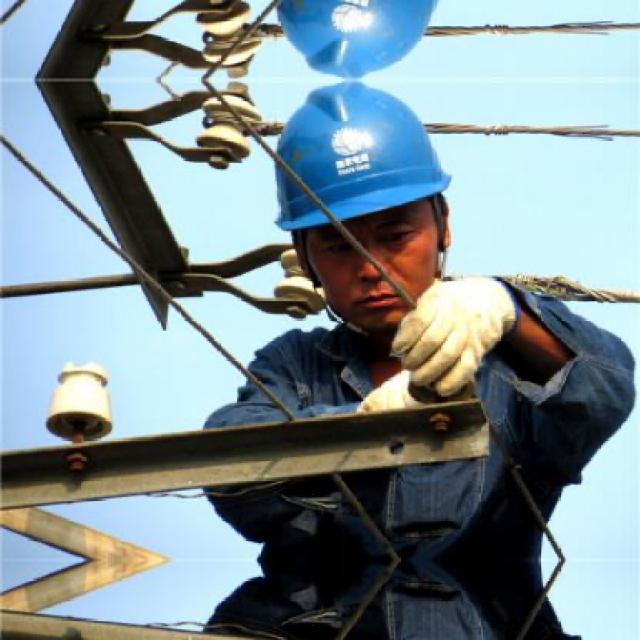helmet: (254, 86, 471, 339), (252, 0, 470, 75)
